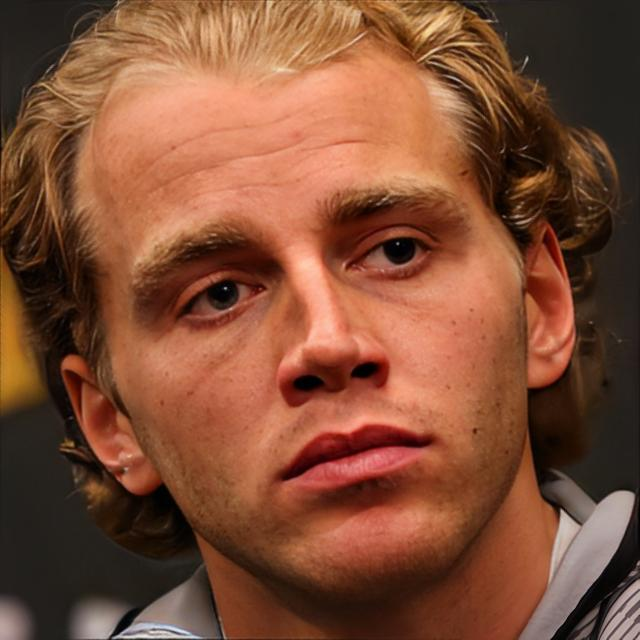sad: (98, 33, 532, 594)
